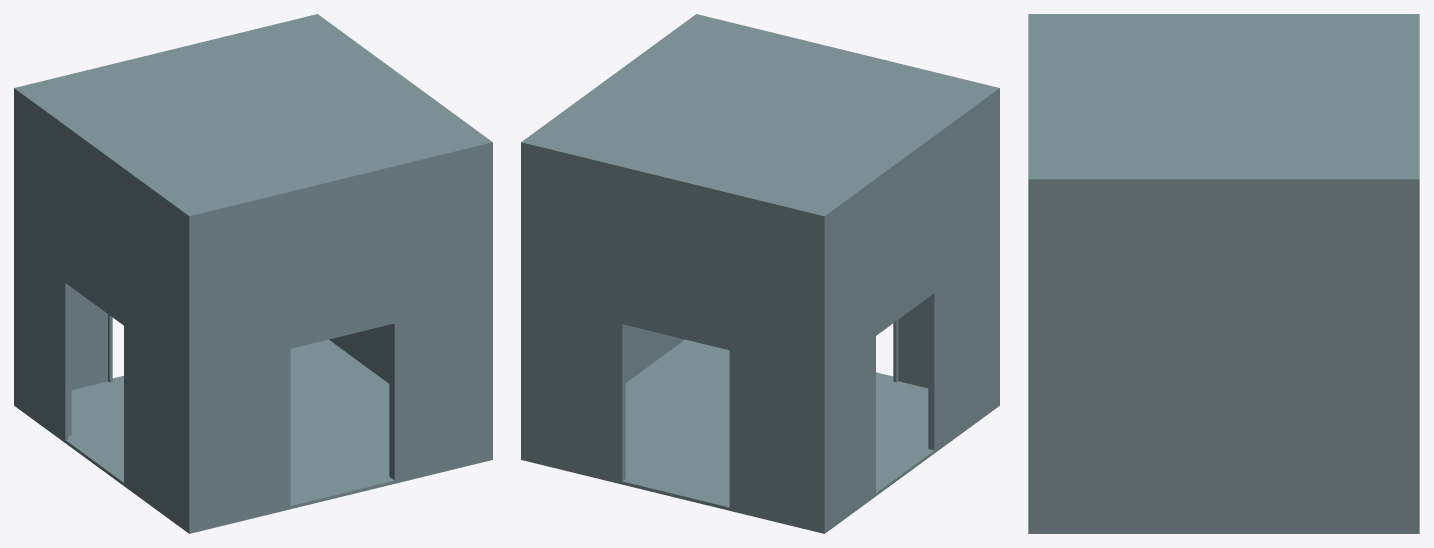
The model's file is Entries.obj.
3 views of the same model, side by side, from view 1: azimuth 30°, elevation 25°; view 2: azimuth 150°, elevation 25°; view 3: azimuth 270°, elevation 25° (orthographic). The views are drawn at different scales.
Bounding box in the file's own units: 9.9 × 9.9 × 9.9.
1 material, 1 textured.
